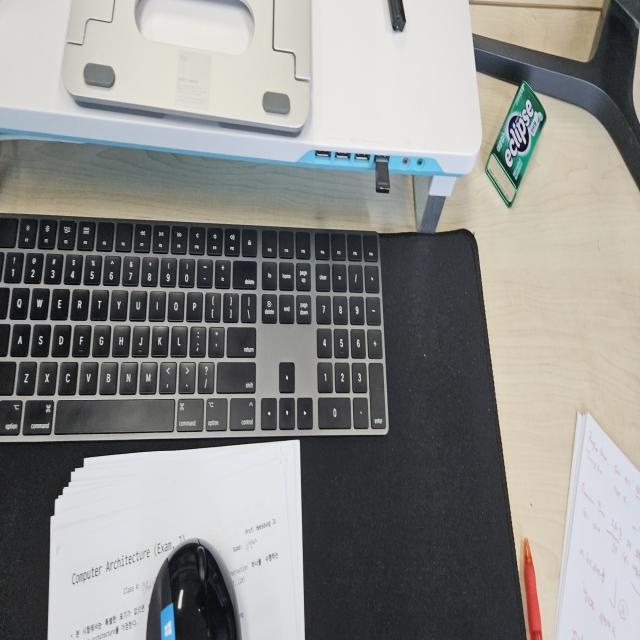Keyboard: (0, 211, 390, 444)
Mouse: (144, 536, 241, 637)
